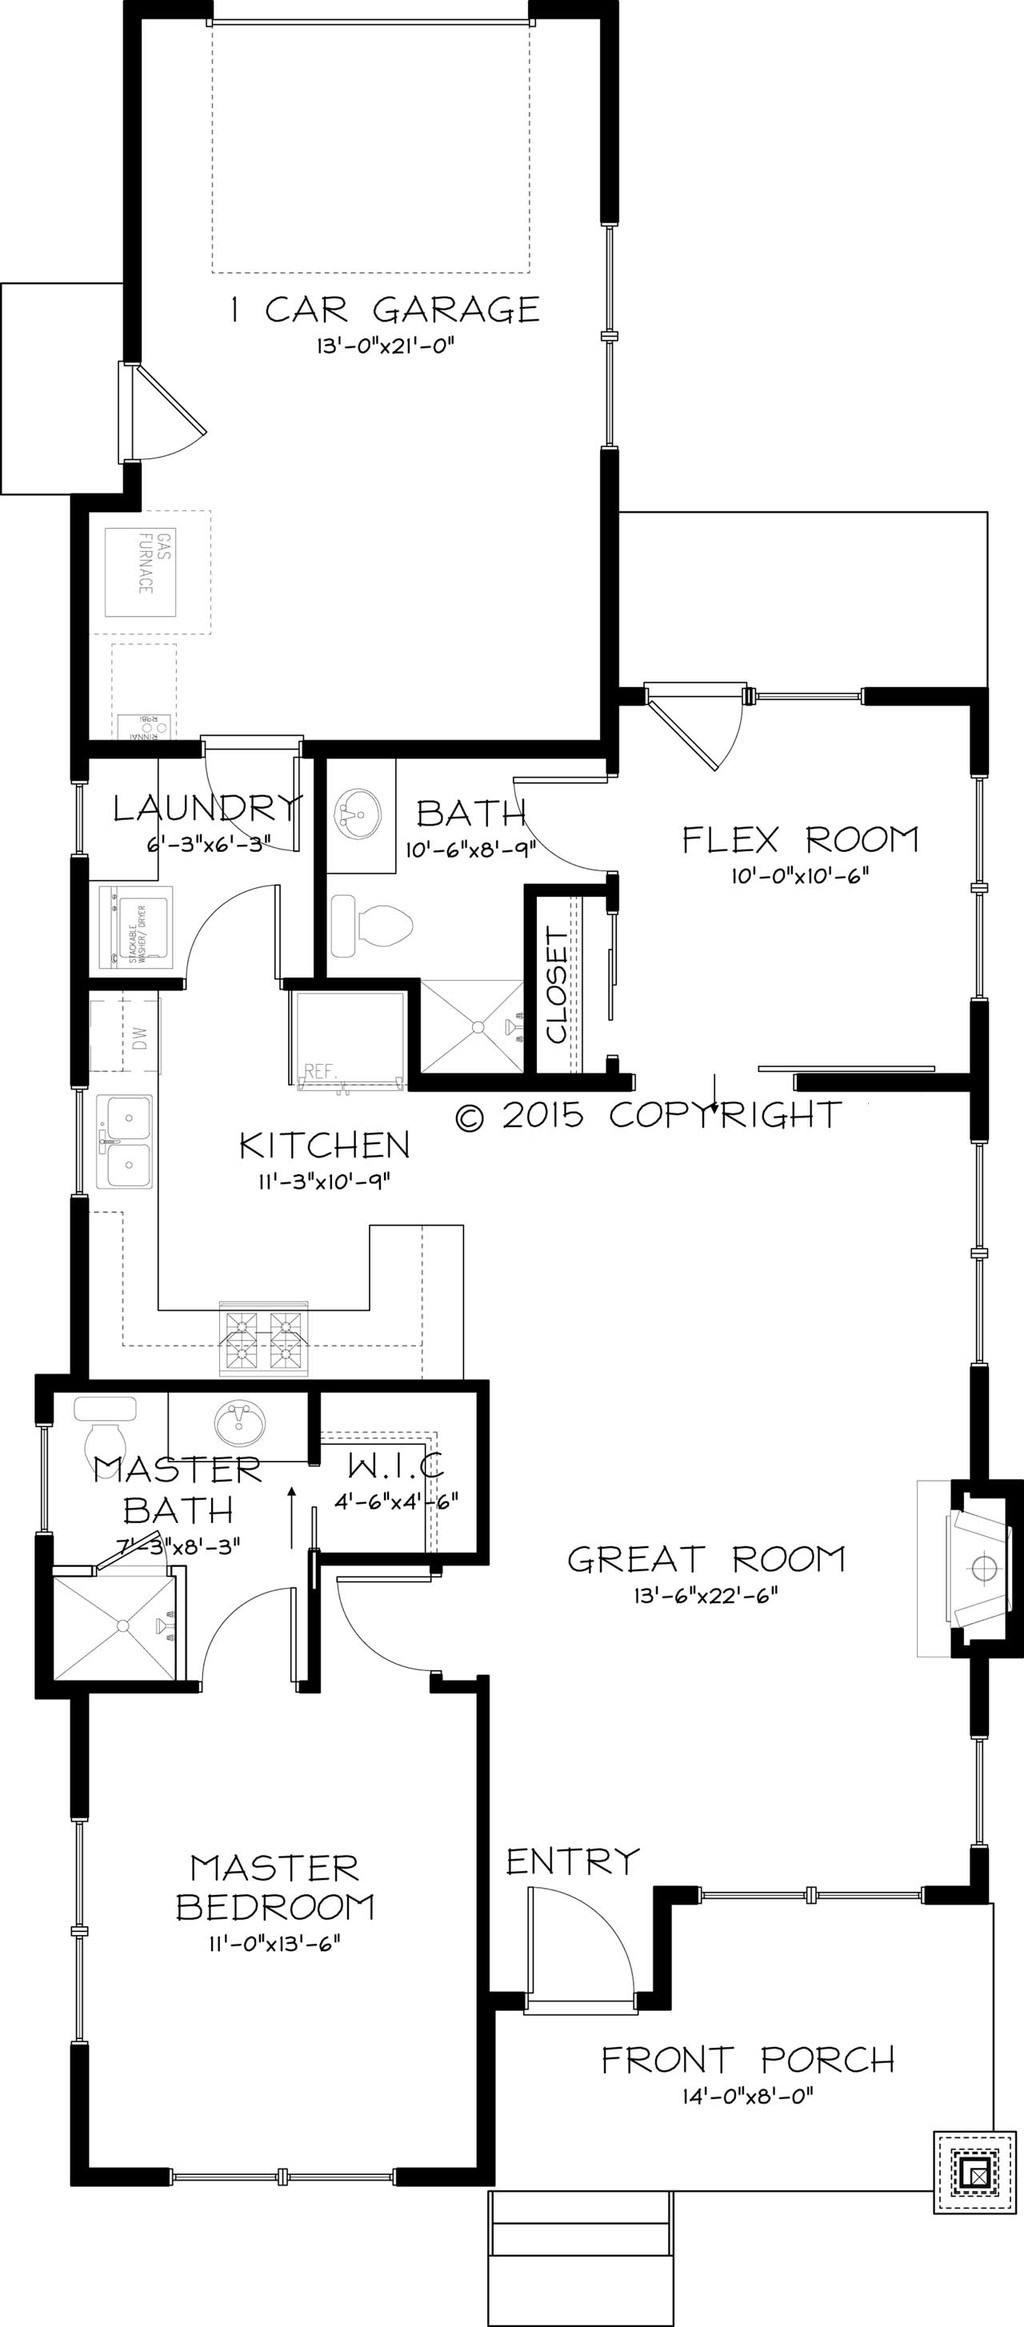door: (490, 1868, 652, 2027), (181, 727, 312, 861), (511, 761, 644, 890), (619, 663, 748, 779), (200, 1564, 315, 1693), (163, 883, 285, 1002), (322, 1564, 441, 1678), (119, 372, 223, 467)
large_sink: (322, 883, 430, 987), (56, 1394, 141, 1500)
small_sink: (322, 746, 407, 873), (188, 1383, 312, 1460)
twin_sink: (74, 1083, 171, 1212)
window: (159, 2146, 381, 2198), (70, 1805, 107, 2038), (959, 757, 993, 994)
